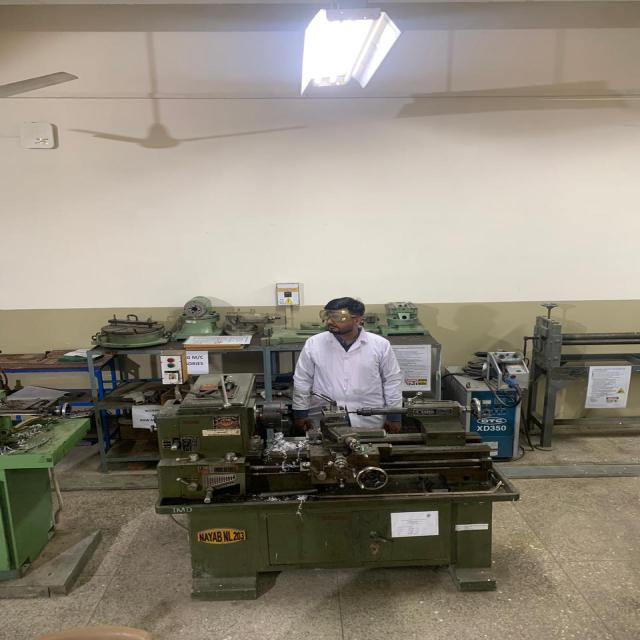googles: (317, 309, 353, 322)
labcoat: (290, 326, 406, 435)
